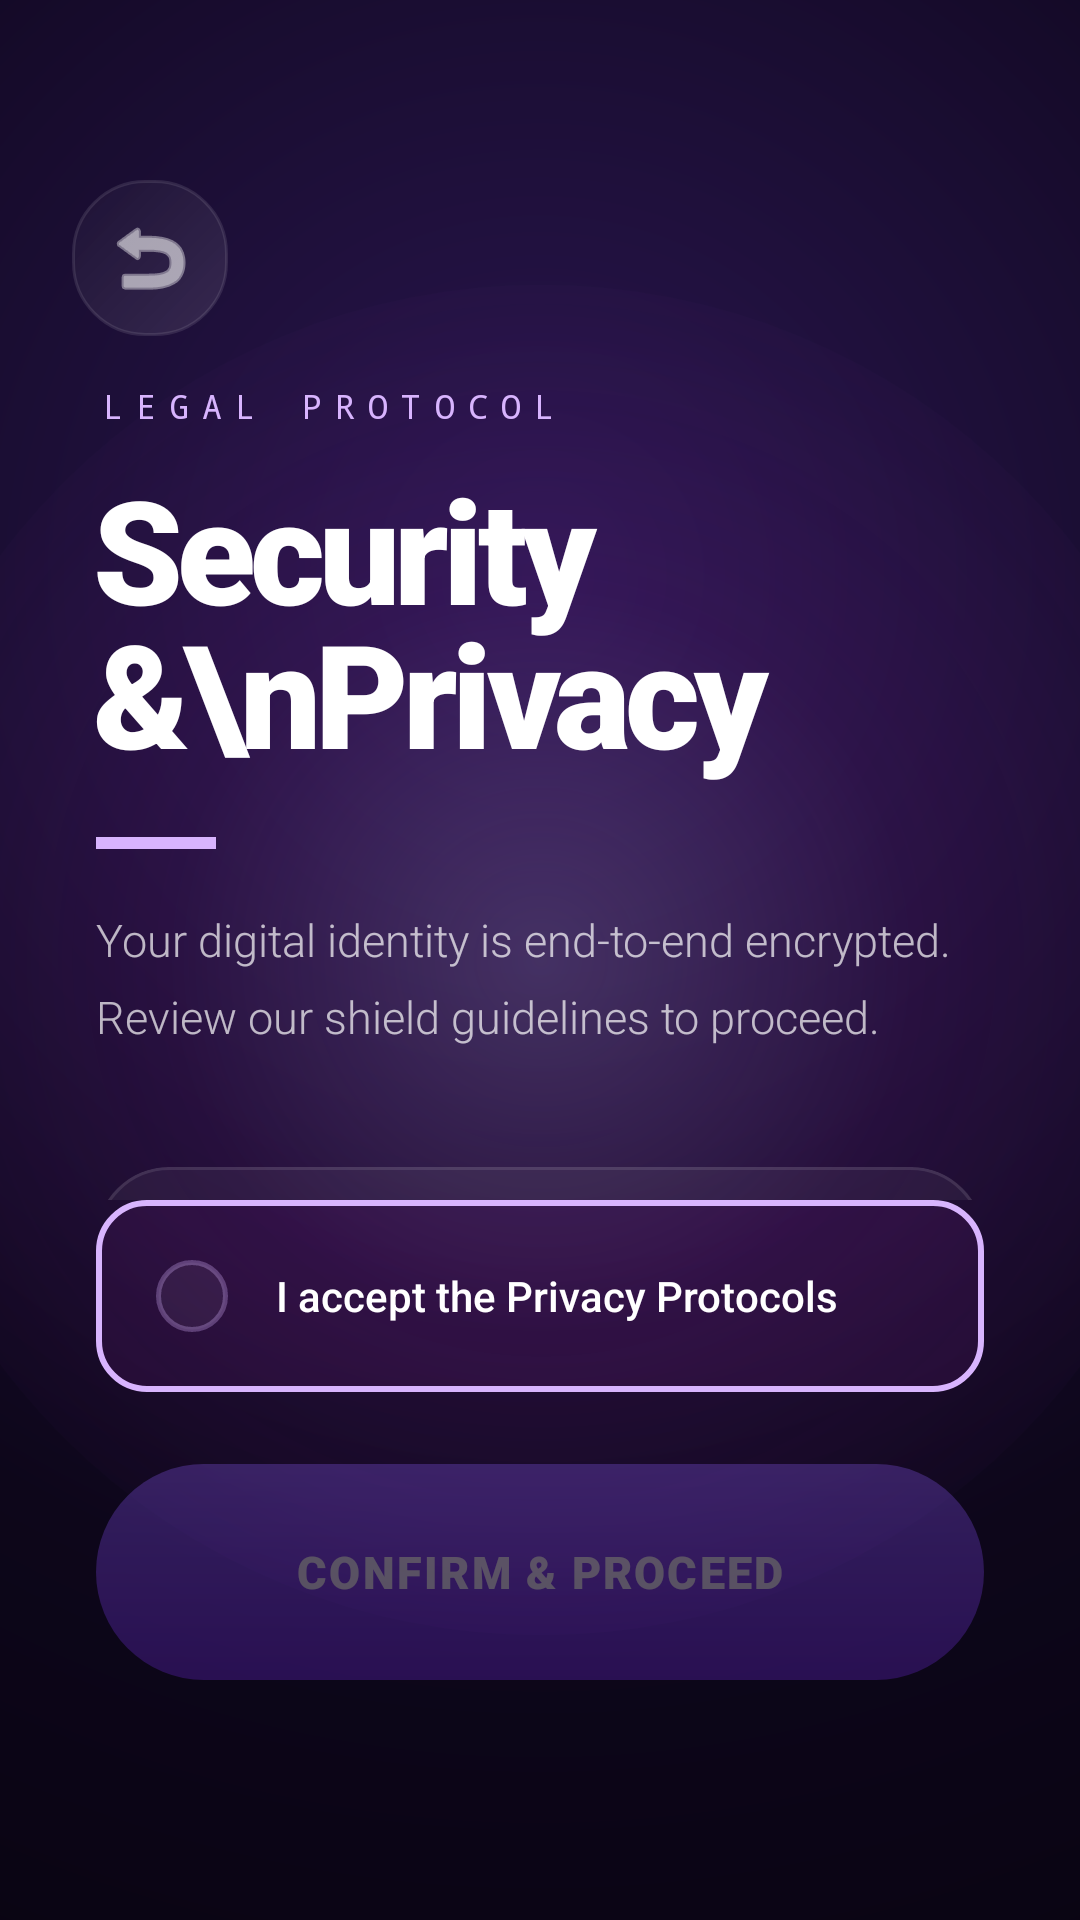

Icon click points for this 1080px×1920px phone screenshot, format (x,y):
revert: (150,258)
